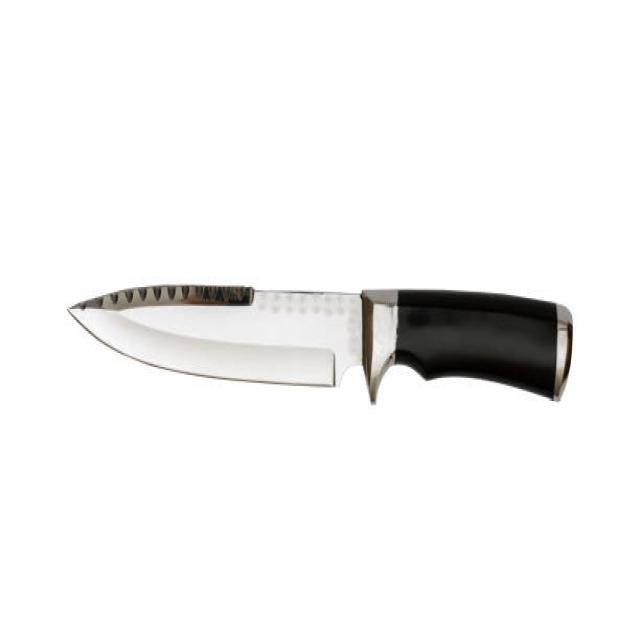knife: (64, 274, 578, 426)
